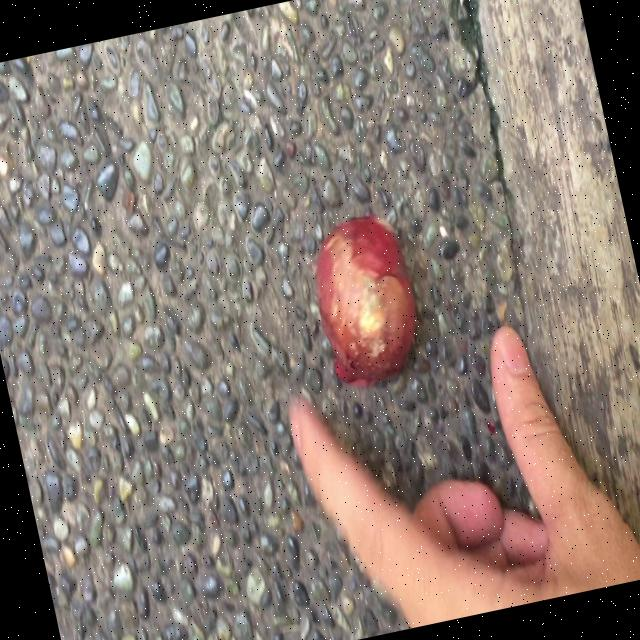Onion: (316, 215, 416, 387)
